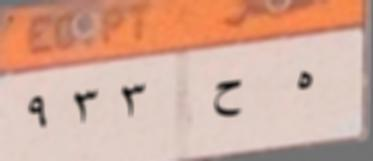3: (115, 73, 151, 131), (62, 83, 102, 134)
7aa: (204, 72, 249, 131)
9: (25, 88, 52, 138)
haa: (287, 60, 324, 107)
